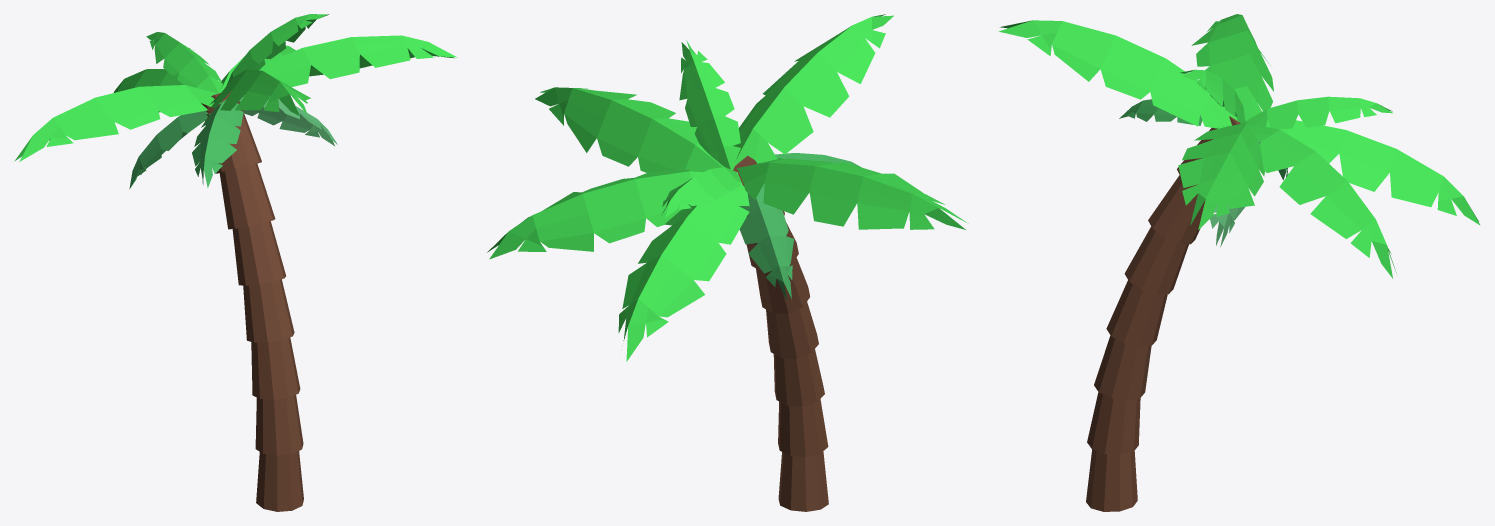
The model's file is palmeira.fbx.
3 views of the same model, side by side, from view 1: azimuth 30°, elevation 25°; view 2: azimuth 150°, elevation 25°; view 3: azimuth 270°, elevation 25° (orthographic). The views are drawn at different scales.
Parts seen in each view (by area): view 1: Circle; view 2: Circle; view 3: Circle.
Boxes of the visible parts, x1,y1,x2,y2 form: Circle: [14, 14, 457, 511]; Circle: [487, 14, 968, 511]; Circle: [998, 14, 1480, 511].
Bounding box in the file's own units: 2672 × 2665 × 2477.
